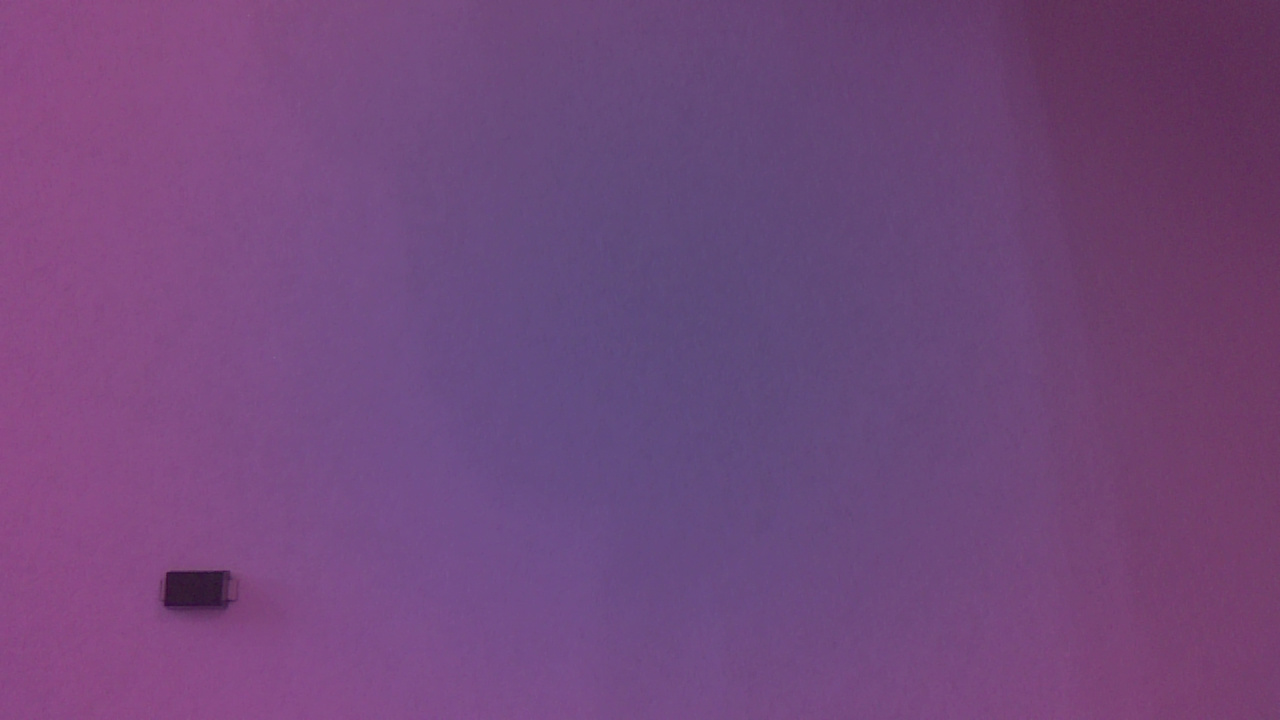Diode: (159, 565, 248, 618)
